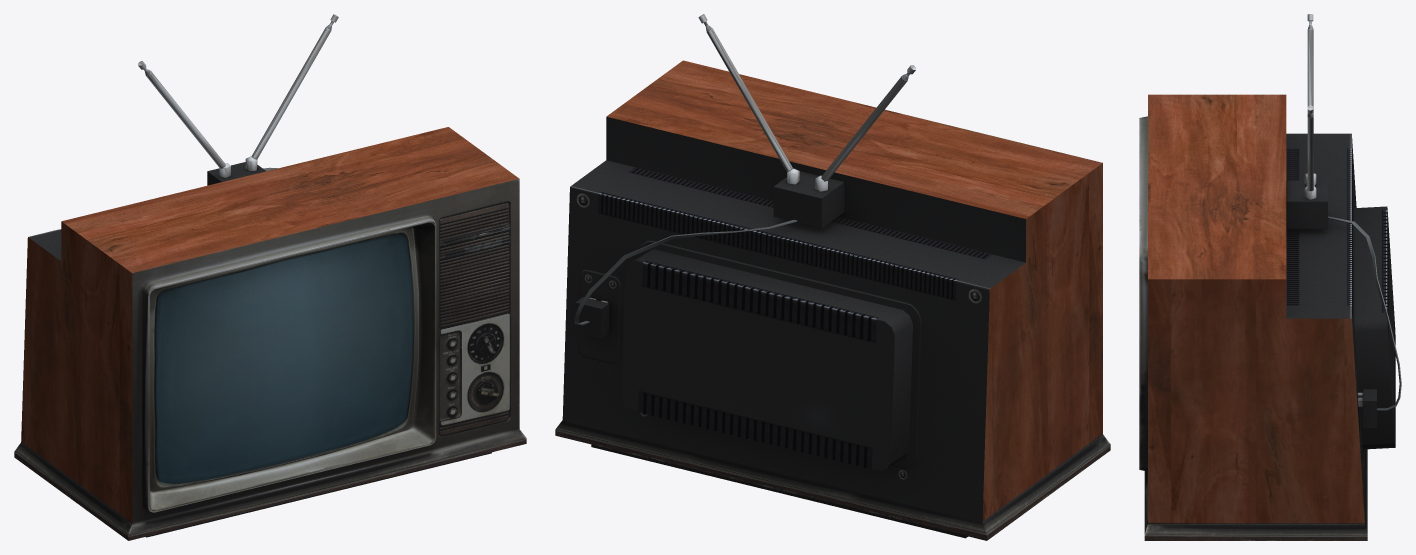
The model's file is vintage_tv.FBX.
The picture shows the model from 3 angles, left to right: view 1: azimuth 30°, elevation 25°; view 2: azimuth 150°, elevation 25°; view 3: azimuth 270°, elevation 25°; orthographic projection. The views are drawn at different scales.
Parts seen in each view (by area): view 1: vintage_tv; view 2: vintage_tv; view 3: vintage_tv.
Boxes of the visible parts, bbox=[...] form: vintage_tv: bbox=[14, 14, 526, 540]; vintage_tv: bbox=[555, 14, 1110, 540]; vintage_tv: bbox=[1139, 14, 1401, 540].
Bounding box in the file's own units: 1.03 × 0.9937 × 0.6011.
